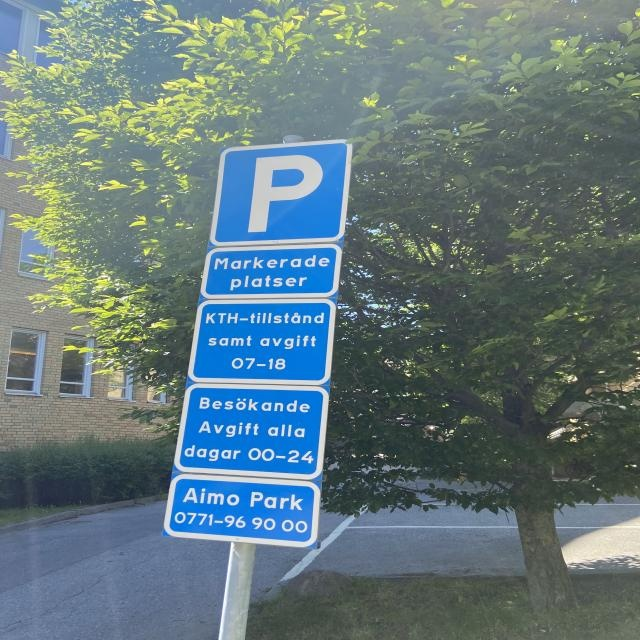P-skylt: (218, 147, 342, 239)
